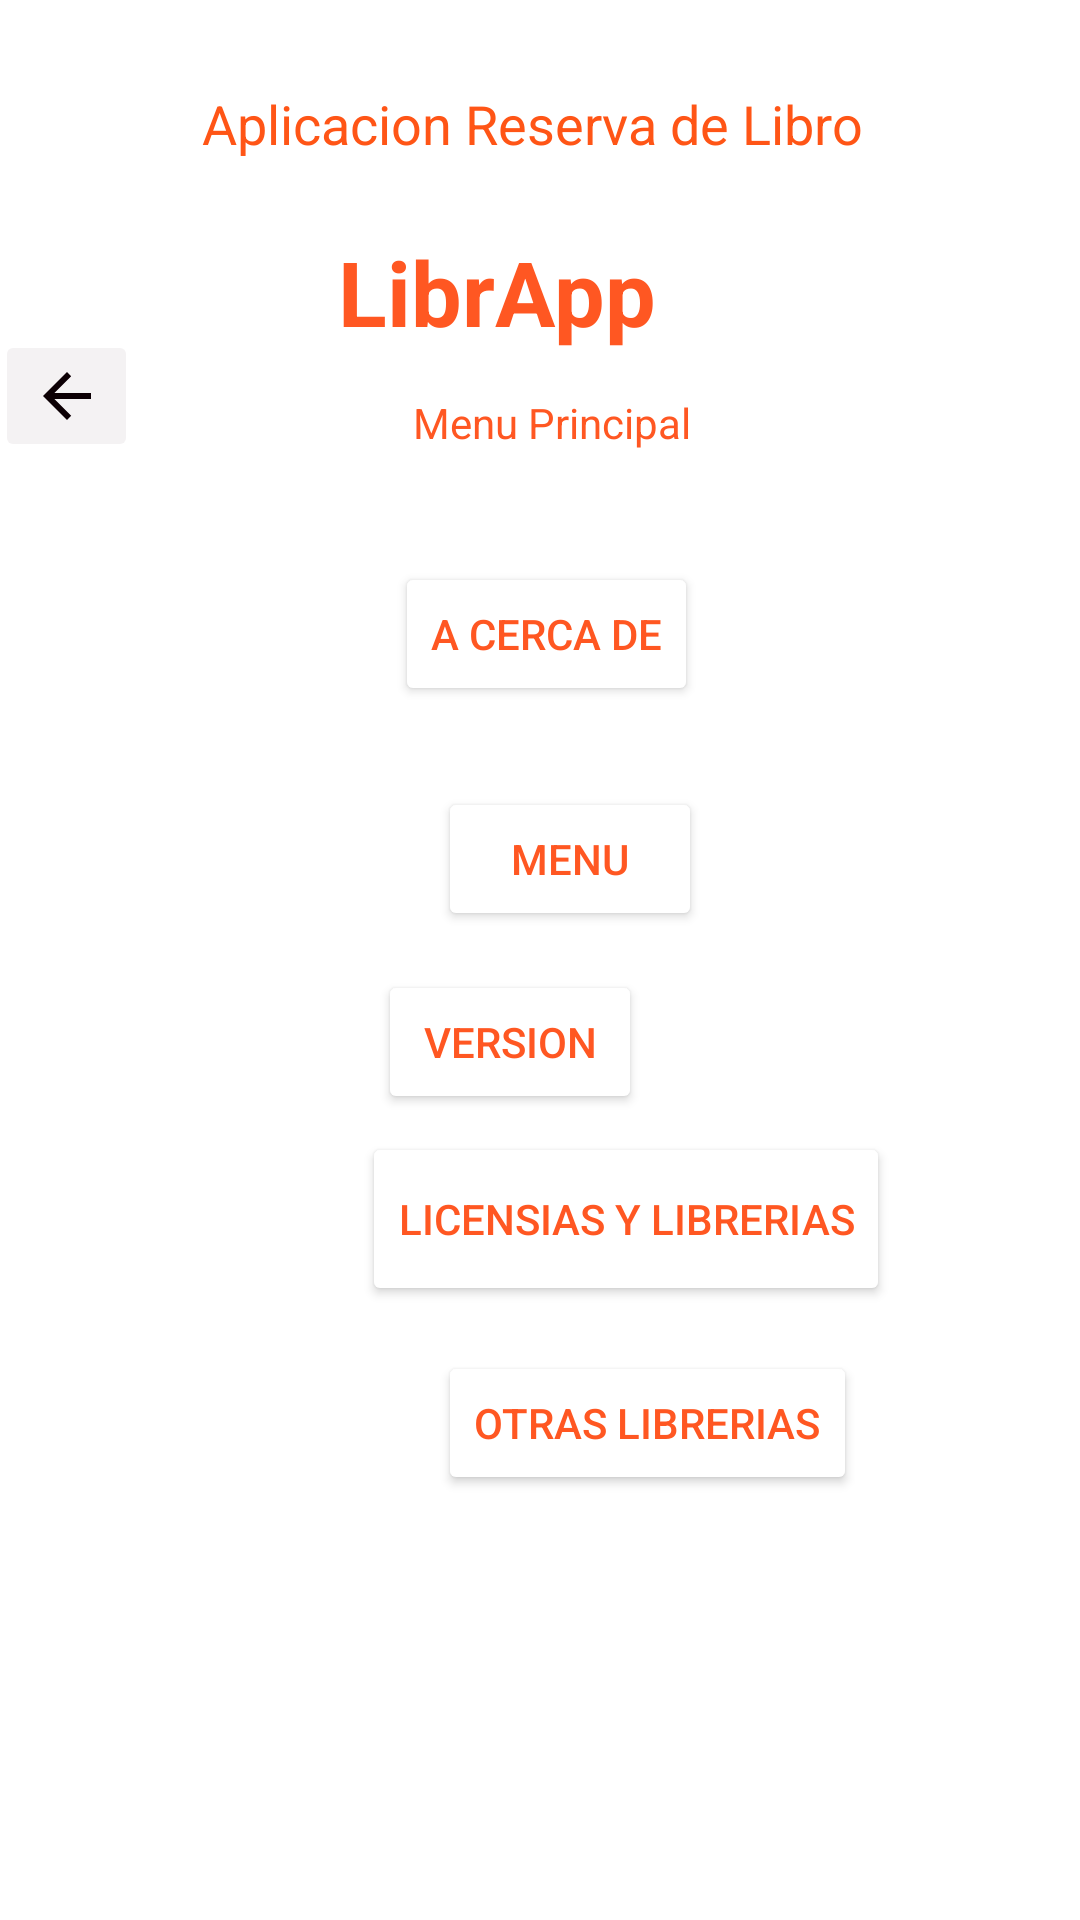

Where to tap for icons on this 1080 × 1920 app screen, as (x=x, y=y):
Volver: (x=66, y=396)
